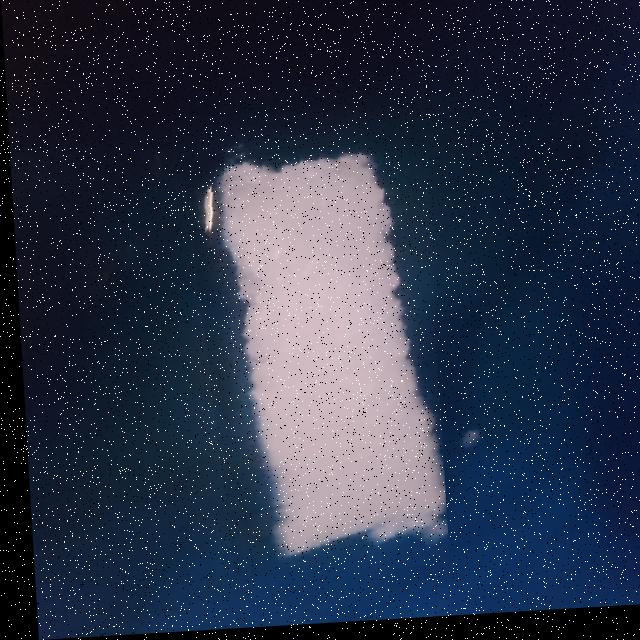thermocoal: (178, 136, 441, 581)
